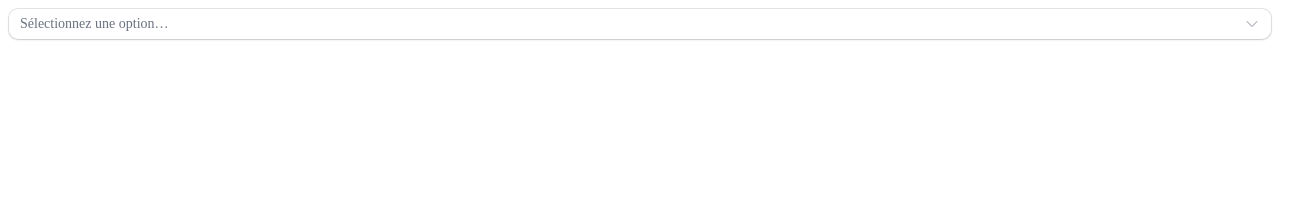
Test: SuSelectBox › avec recherche : le champ porte l’option active et filtre la liste
Press ArrowDown in the dropdown labelled "Sélectionnez une option…", box left=8, top=8, right=1272, bottom=40
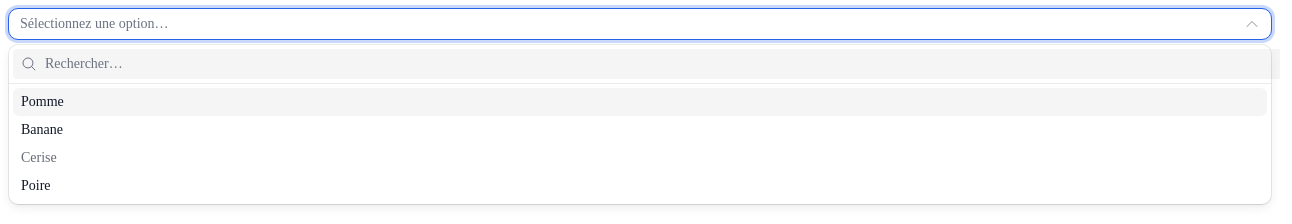
Type "ba" into the dropdown with placeholder "Rechercher…" at (646, 64), box left=13, top=49, right=1280, bottom=79
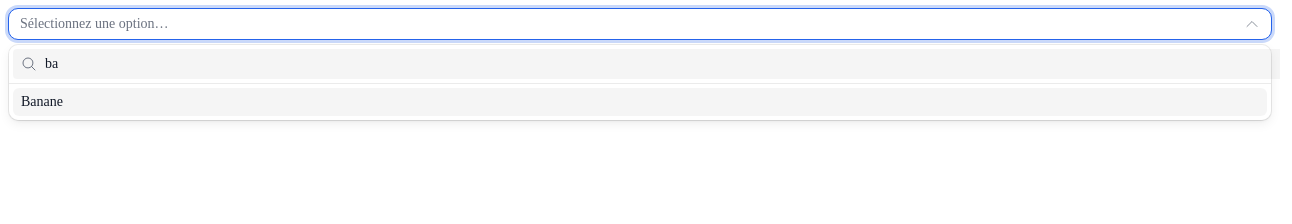
Check: the number of options is 1, box left=13, top=88, right=1267, bottom=116
